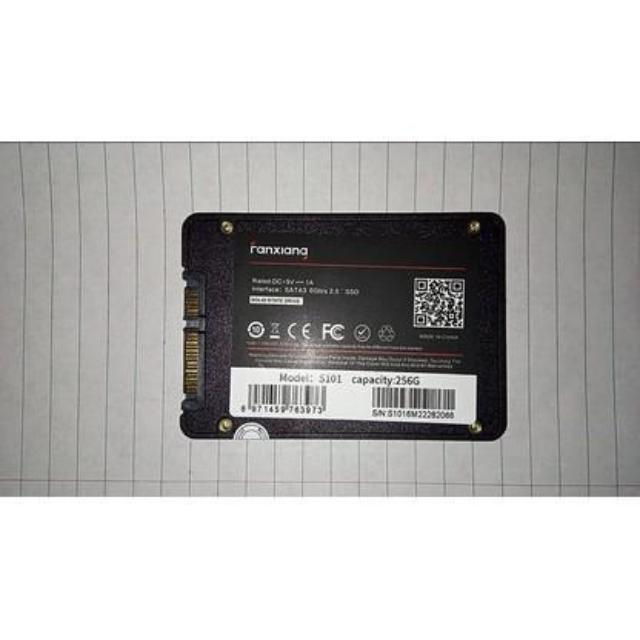DISK: (182, 208, 509, 440)
